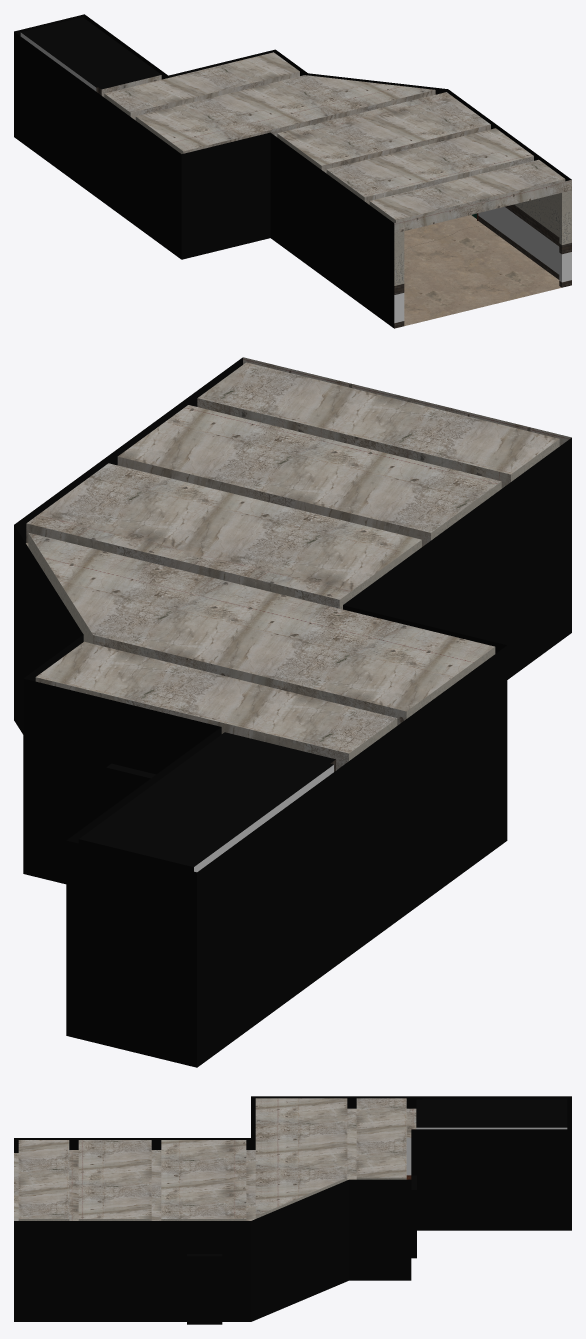
Rendered from subway.obj.
3 renders of one model, top to bottom at view 1: azimuth 30°, elevation 25°; view 2: azimuth 150°, elevation 25°; view 3: azimuth 270°, elevation 25°, orthographic. The views are drawn at different scales.
Visible parts, largest first — view 1: subway_Material2; view 2: subway_Material2; view 3: subway_Material2.
Part boxes in pixels (left/top/right/bottom): subway_Material2: left=14, top=14, right=571, bottom=328; subway_Material2: left=14, top=357, right=571, bottom=1067; subway_Material2: left=14, top=1096, right=571, bottom=1324.
Bounding box in the file's own units: 92.18 × 34.82 × 171.
